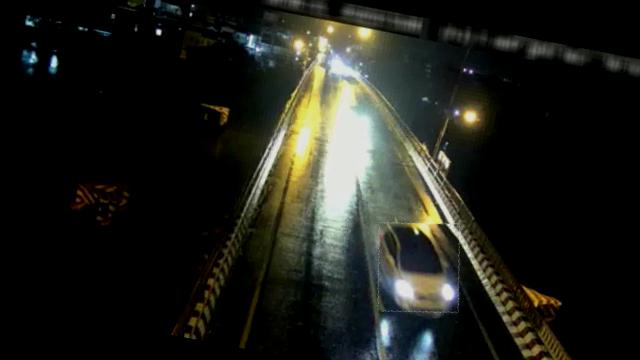Car: (368, 213, 470, 322)
